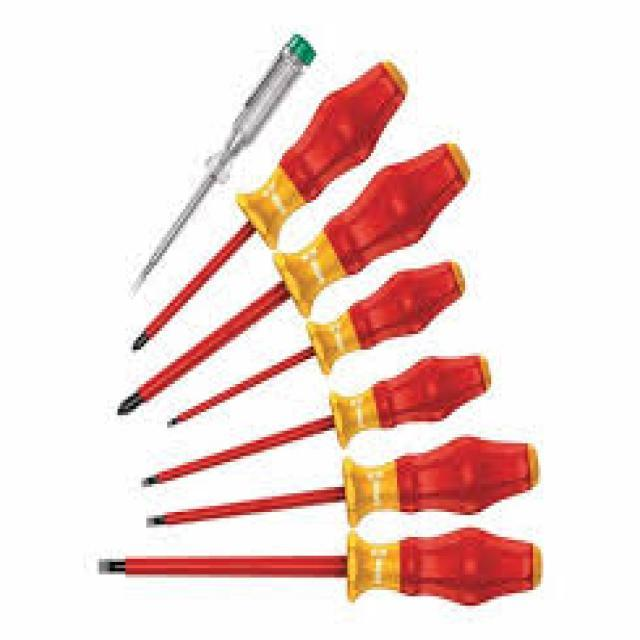screwdriver: (114, 136, 476, 420), (128, 56, 410, 356), (122, 25, 316, 309), (135, 352, 492, 500), (162, 258, 468, 427), (142, 436, 555, 536), (82, 524, 545, 609)
